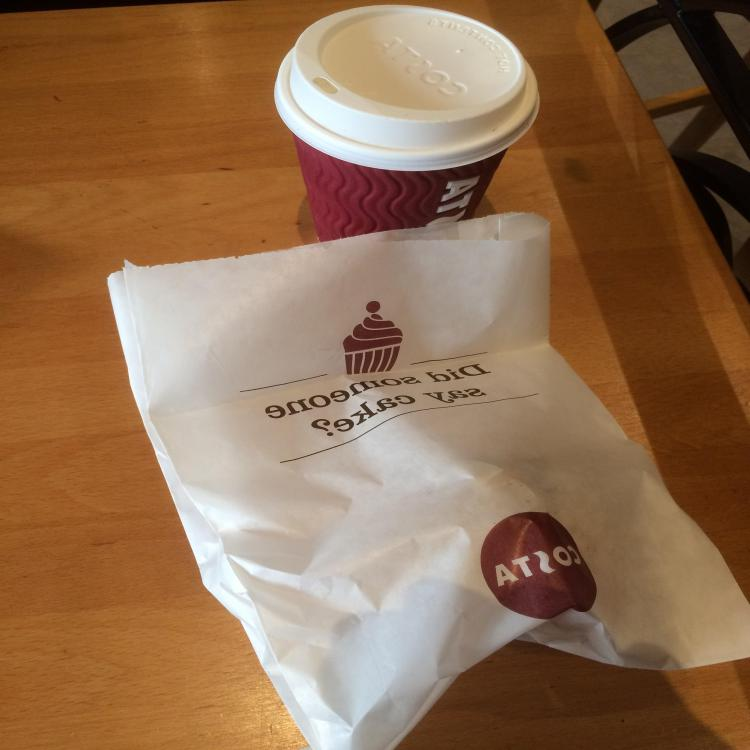Paper cup: (274, 5, 540, 242)
Plastic lid: (275, 4, 540, 171)
